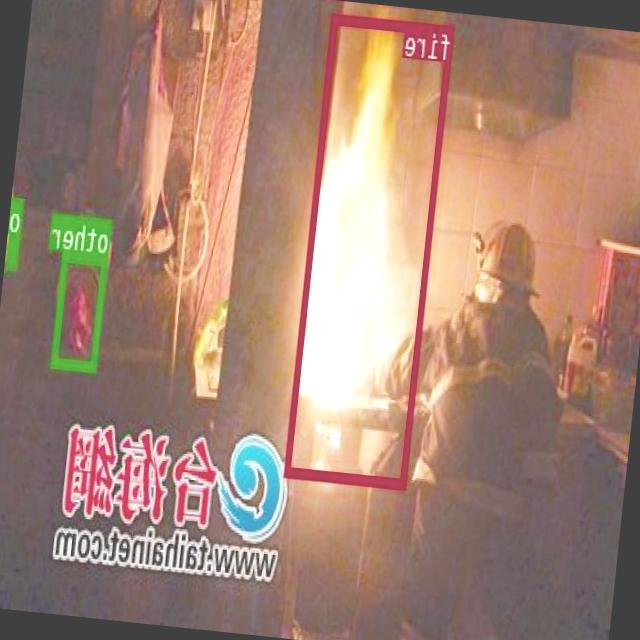fire: (284, 12, 454, 486)
